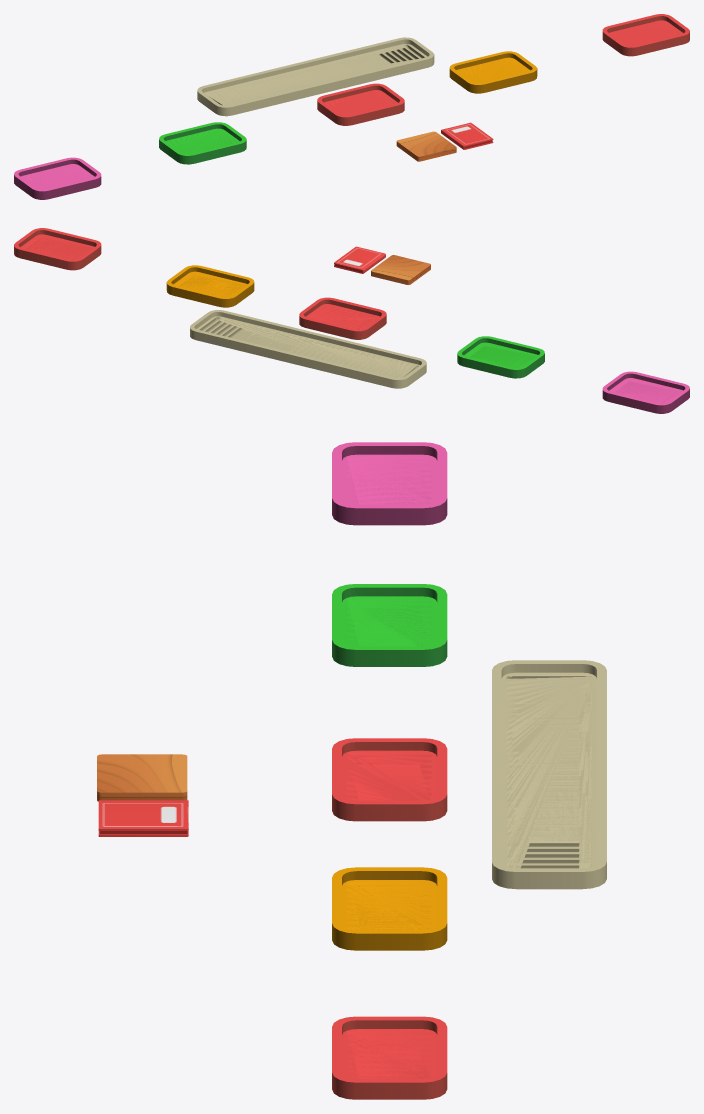
Rendered from tray.fbx.
3 views of the same model, one above another, from view 1: azimuth 30°, elevation 25°; view 2: azimuth 150°, elevation 25°; view 3: azimuth 270°, elevation 25° (orthographic). The views are drawn at different scales.
Visible parts, largest first — view 1: beige.001, Cardholder.014, Cardholder.015, Cardholder.016, Cardholder.013, Cardholder.017, cardholder_square.217, Cube.010; view 2: beige.001, Cardholder.014, Cardholder.015, Cardholder.016, Cardholder.013, Cardholder.017, cardholder_square.217, Cube.010; view 3: beige.001, Cardholder.014, Cardholder.013, Cardholder.015, Cardholder.017, Cardholder.016, cardholder_square.217, Cube.010.
Part boxes in pixels (x1,y1,x2,y2): beige.001: [197, 37, 434, 116]; Cardholder.014: [449, 51, 537, 93]; Cardholder.015: [317, 83, 404, 125]; Cardholder.016: [159, 122, 246, 164]; Cardholder.013: [602, 14, 689, 56]; Cardholder.017: [14, 157, 101, 199]; cardholder_square.217: [396, 131, 456, 161]; Cube.010: [441, 122, 493, 149]; beige.001: [190, 310, 426, 388]; Cardholder.014: [166, 265, 254, 307]; Cardholder.015: [299, 297, 386, 339]; Cardholder.016: [457, 336, 544, 378]; Cardholder.013: [14, 228, 101, 270]; Cardholder.017: [602, 371, 689, 413]; cardholder_square.217: [371, 255, 430, 284]; Cube.010: [334, 246, 385, 273]; beige.001: [492, 660, 606, 889]; Cardholder.014: [332, 867, 447, 950]; Cardholder.013: [332, 1016, 447, 1099]; Cardholder.015: [332, 738, 447, 821]; Cardholder.017: [332, 442, 447, 525]; Cardholder.016: [332, 584, 447, 666]; cardholder_square.217: [97, 754, 187, 801]; Cube.010: [98, 800, 188, 836].
Bounding box in the file's own units: 662 × 8.91 × 223.
